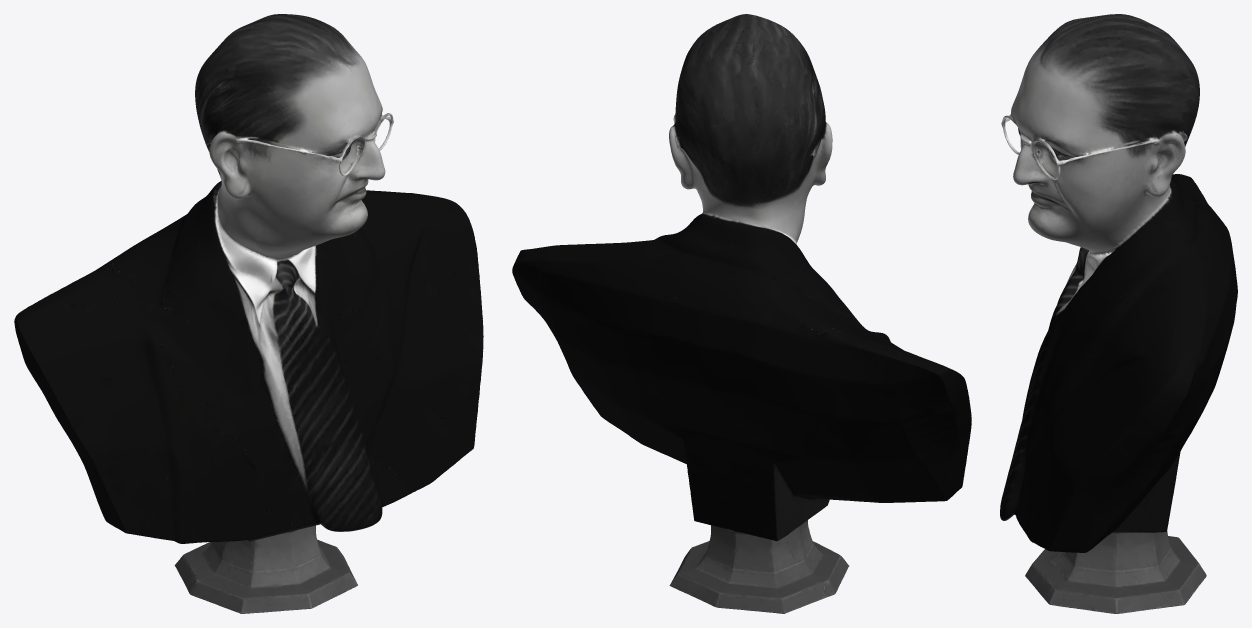
The model's file is Meshy_AI_Portrait_of_a_Visiona_1025115704_texture.glb.
The picture shows the model from 3 angles, left to right: view 1: azimuth 30°, elevation 25°; view 2: azimuth 150°, elevation 25°; view 3: azimuth 270°, elevation 25°; orthographic projection. The views are drawn at different scales.
Size of the model in its own units: 1.6 by 1.9 by 0.7254.
Materials: 1 (1 with a texture image).
